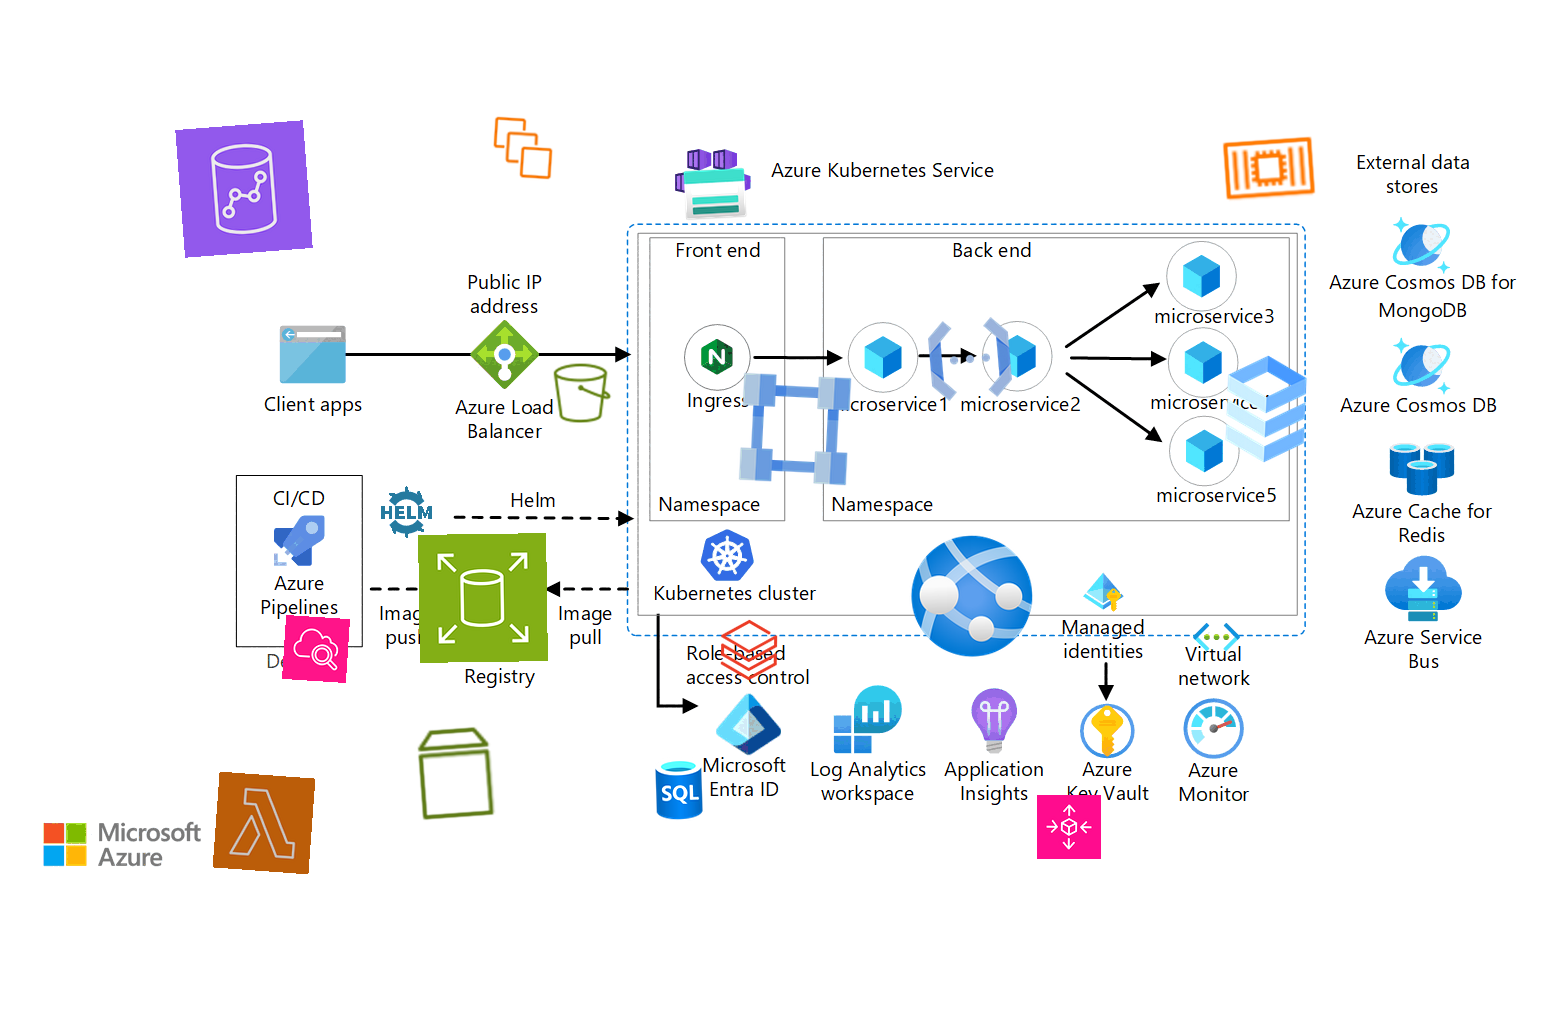aws_amazon_cloudwatch: (282, 616, 349, 683)
aws_amazon_elastic_block_store: (418, 533, 548, 663)
aws_amazon_redshift: (175, 120, 313, 258)
aws_auto_scaling: (1036, 794, 1102, 860)
aws_ec2_instances: (488, 113, 558, 183)
aws_elastic_block_store_volume: (404, 721, 508, 825)
aws_elastic_container_service_container_2: (1217, 116, 1321, 220)
aws_lambda: (212, 771, 316, 875)
aws_simple_storage_service_s3_standard: (549, 360, 615, 426)
azure_app_services: (905, 530, 1039, 663)
azure_databricks: (716, 617, 783, 683)
azure_sql_database: (646, 756, 711, 822)
azure_storage_accounts: (681, 160, 749, 228)
gcp_cloud_functions: (918, 307, 1022, 411)
gcp_cloud_sql: (1198, 342, 1332, 476)
gcp_virtual_private_cloud: (728, 361, 863, 497)
